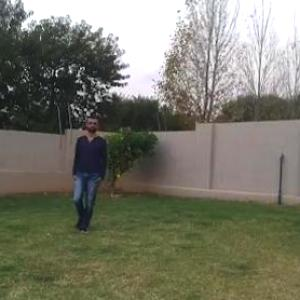follow: (72, 119, 100, 230)
